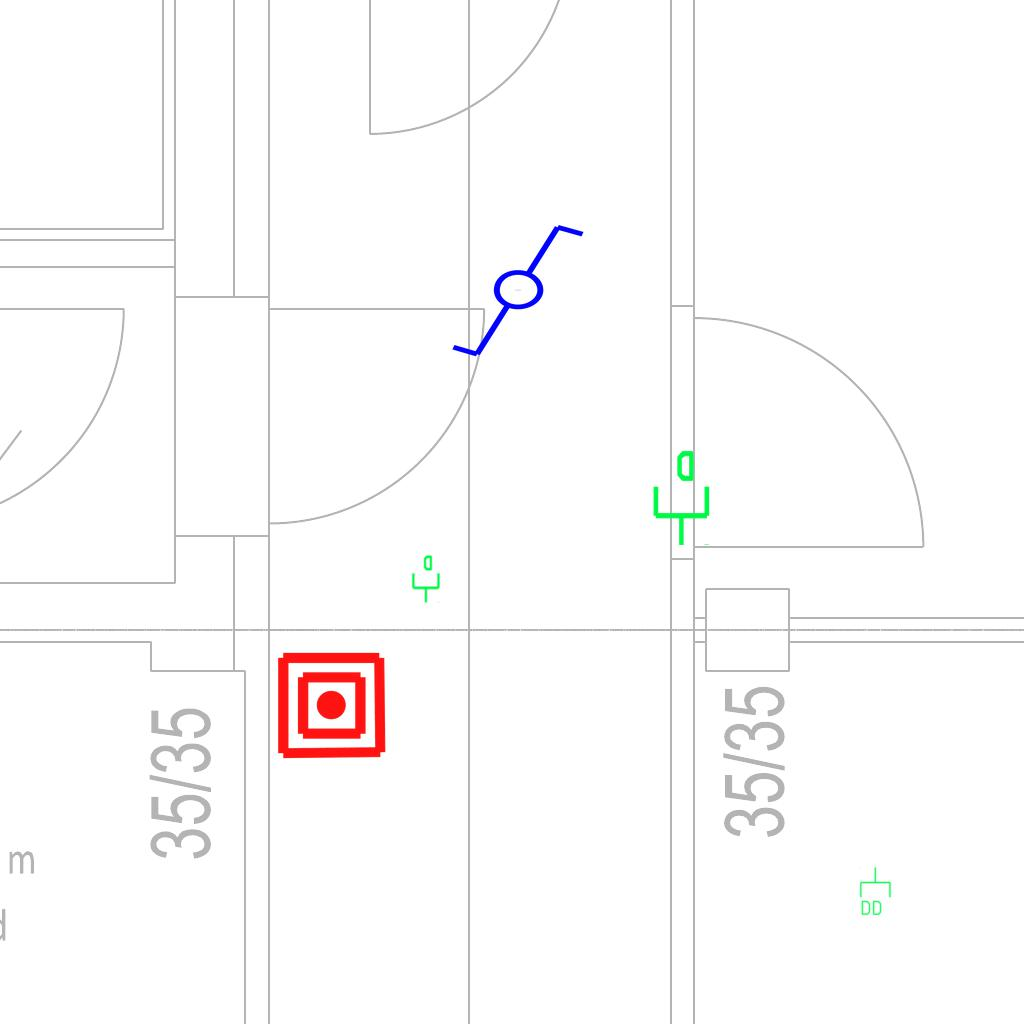Datenanschluss_einfach: (645, 448, 714, 548), (408, 554, 442, 604)
Datenanschluss_zweifach: (858, 866, 892, 917)
NAM-Nichtautomatischer_Melder: (275, 649, 388, 762)
Wechselschalter: (448, 220, 605, 364)
